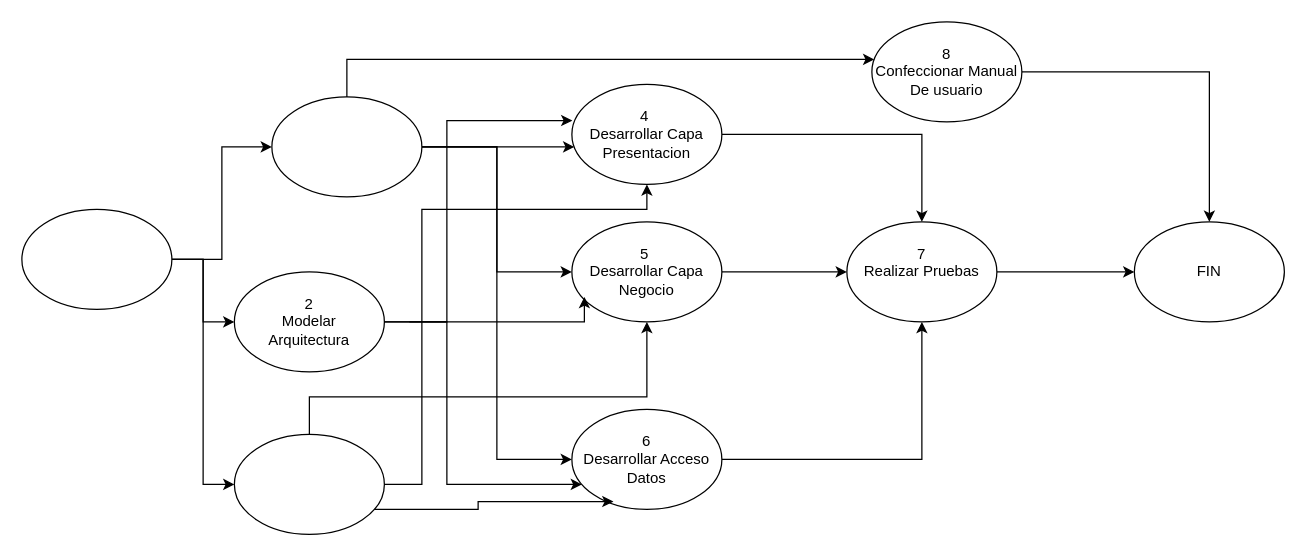
This 1306x556 diagram has some shape labels left out. Here are the shapes that lost their labels. From the top down, the box of each, then its label:
(271, 96, 422, 197): 1 Relevar Requerimientos
(21, 208, 172, 309): INICIO
(233, 433, 384, 534): 3 Modelar interfaces graficas
